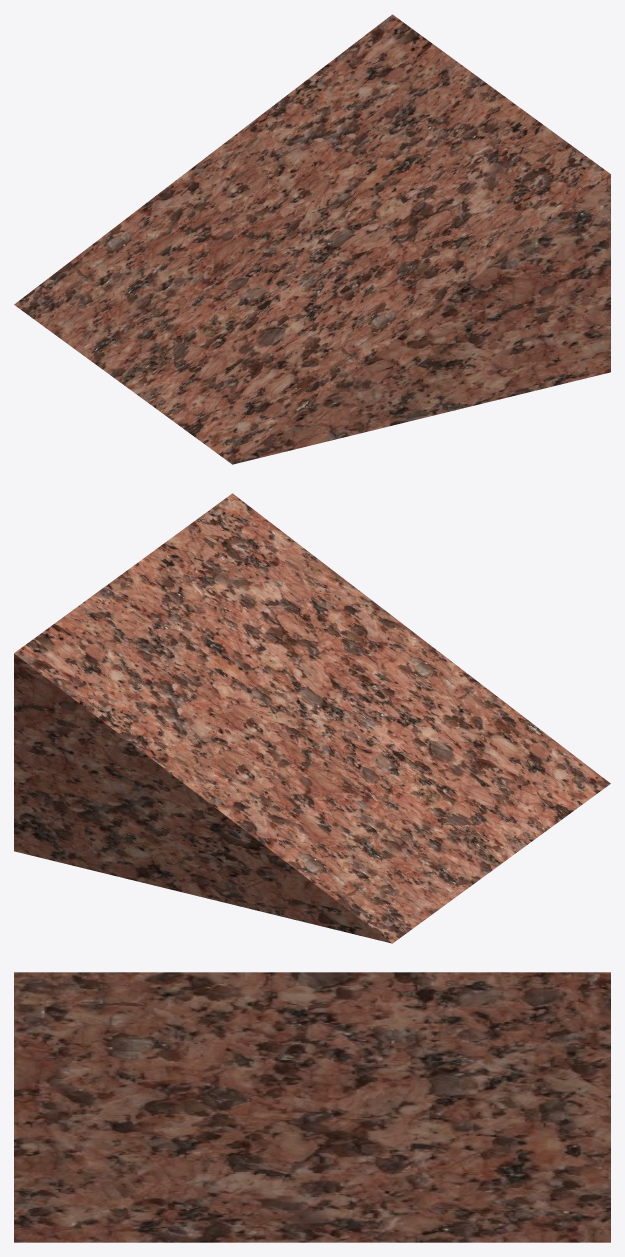
File: block_low_ramp.glb
3 renders of one model, top to bottom at view 1: azimuth 30°, elevation 25°; view 2: azimuth 150°, elevation 25°; view 3: azimuth 270°, elevation 25°, orthographic. The views are drawn at different scales.
Bounding box in the file's own units: 4 × 2 × 4.
1 material, 1 textured.
